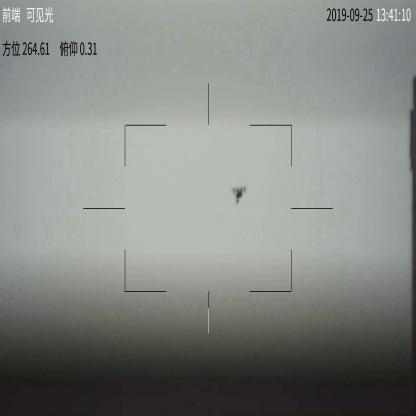uav: (229, 184, 249, 206)
